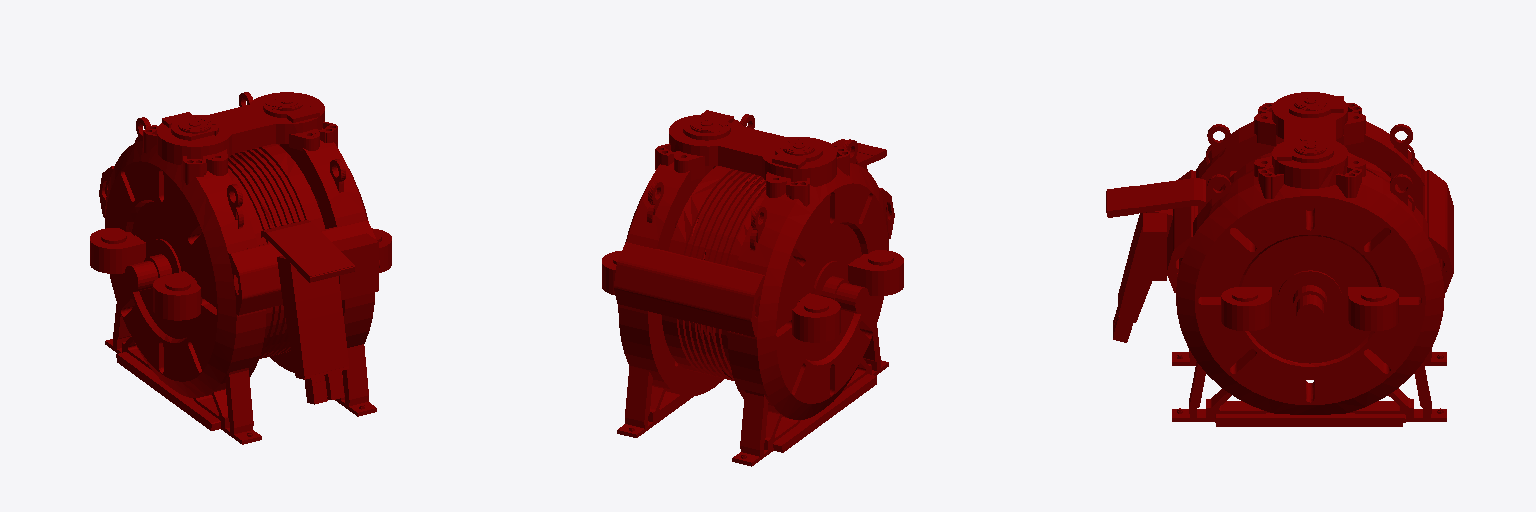
Rendered from zzz.obj.
3 views of the same model, side by side, from view 1: azimuth 30°, elevation 25°; view 2: azimuth 150°, elevation 25°; view 3: azimuth 270°, elevation 25° (orthographic).
Visible parts, largest first — view 1: Rectangle004; view 2: Rectangle004; view 3: Rectangle004.
Part boxes in pixels (left/top/right/bottom): Rectangle004: left=90, top=92, right=391, bottom=444; Rectangle004: left=602, top=110, right=903, bottom=466; Rectangle004: left=1106, top=92, right=1453, bottom=426.
Size of the model in its own units: 124 by 135 by 160.